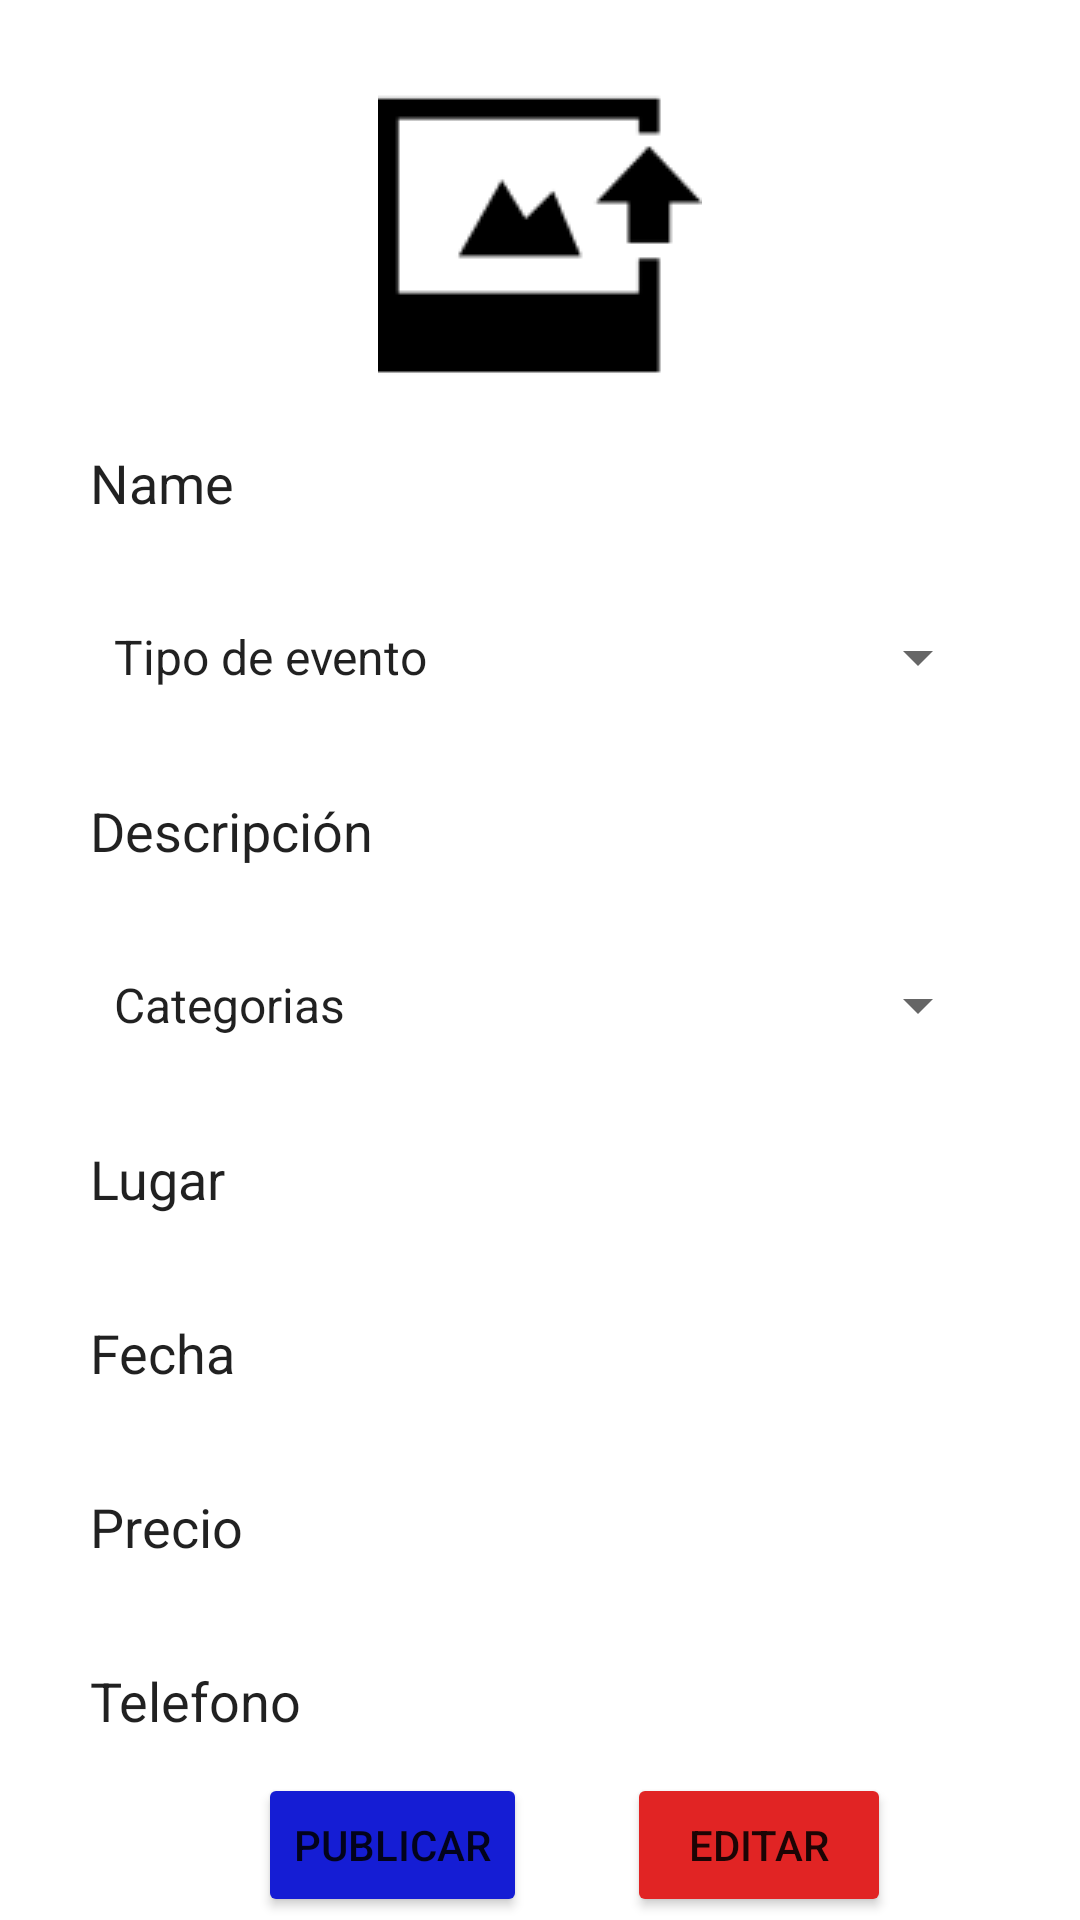

Icon bounding boxes for this 1080px×1920px phone screenshot, format [x1, y1, x2, y2]:
uploadbolet: [378, 97, 702, 373]
